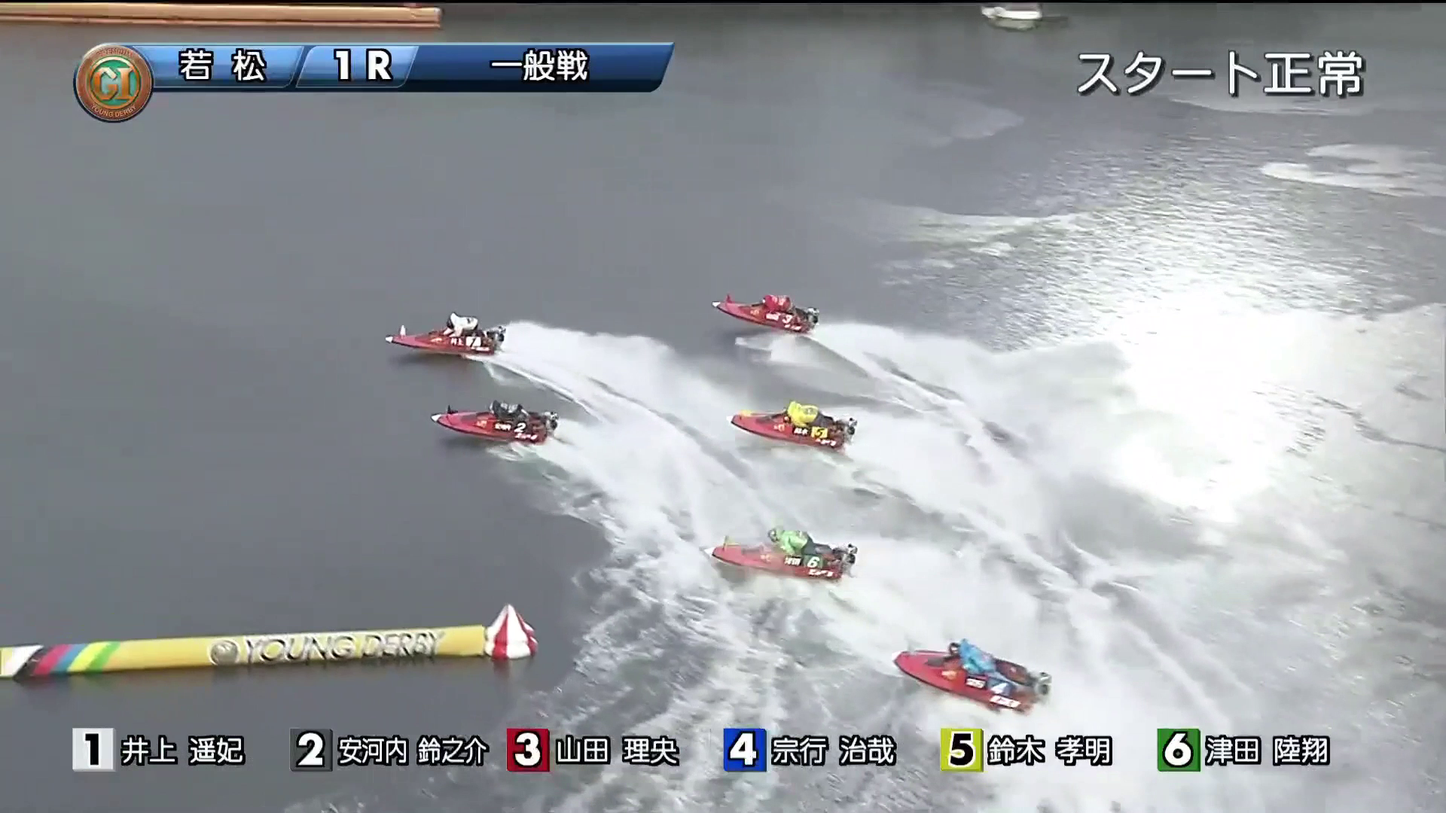１号艇: (416, 281, 486, 334)
２号艇: (425, 370, 554, 431)
３号艇: (740, 265, 838, 318)
４号艇: (731, 505, 865, 570)
５号艇: (911, 649, 1034, 704)
６号艇: (741, 357, 841, 437)
